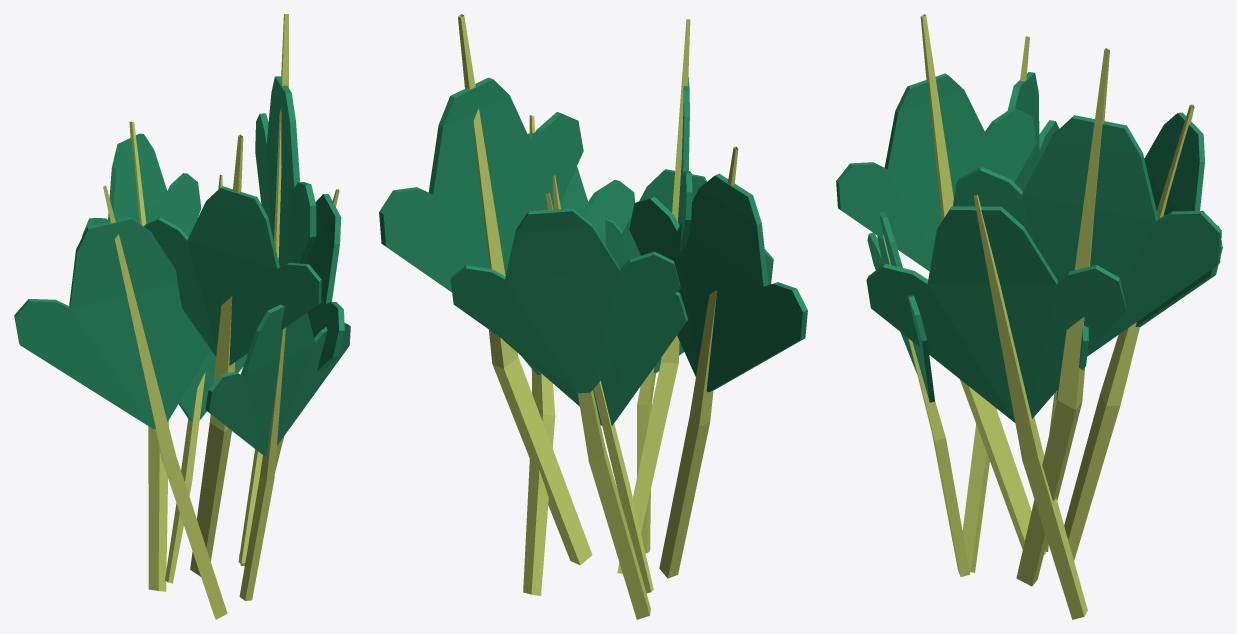
File: Carrot_2.fbx
The picture shows the model from 3 angles, left to right: view 1: azimuth 30°, elevation 25°; view 2: azimuth 150°, elevation 25°; view 3: azimuth 270°, elevation 25°; orthographic projection. The views are drawn at different scales.
Parts seen in each view (by area): view 1: 2_Carrot; view 2: 2_Carrot; view 3: 2_Carrot.
Boxes of the visible parts, left/top/right/bottom form: 2_Carrot: left=14, top=14, right=350, bottom=619; 2_Carrot: left=379, top=14, right=807, bottom=619; 2_Carrot: left=836, top=14, right=1222, bottom=619.
Size of the model in its own units: 8.27 by 13.08 by 7.65.
